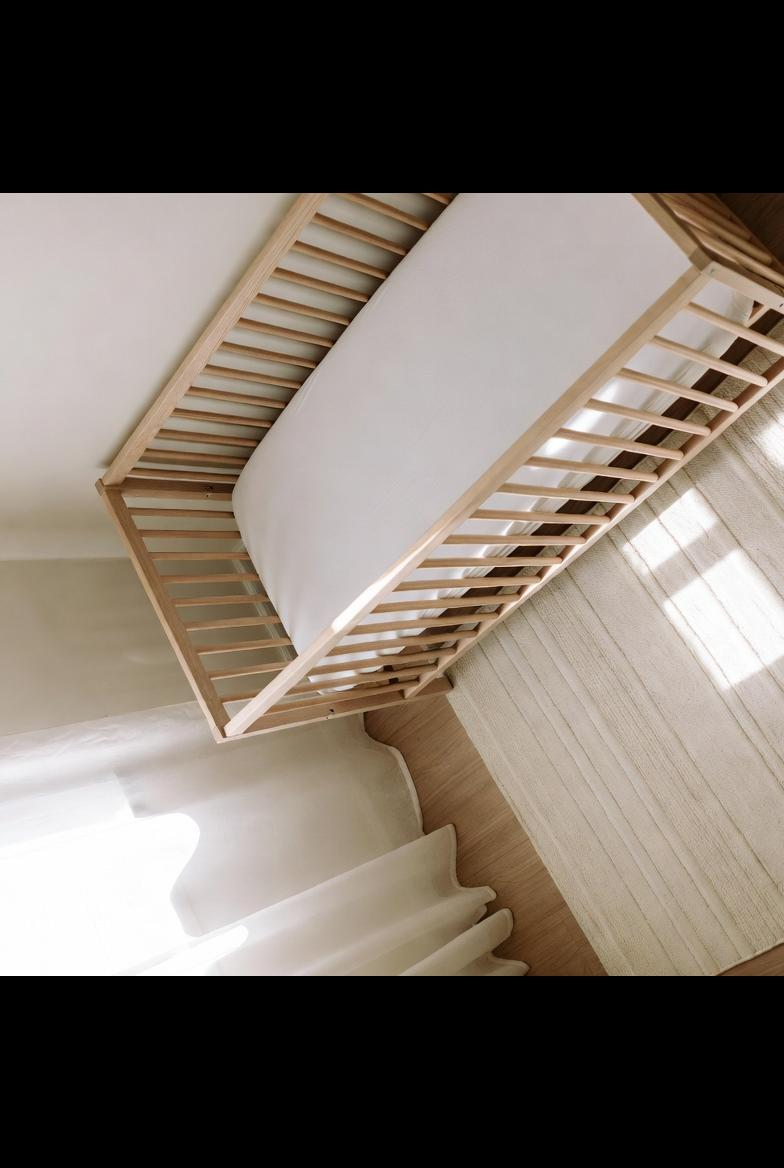crib: (96, 192, 784, 744)
